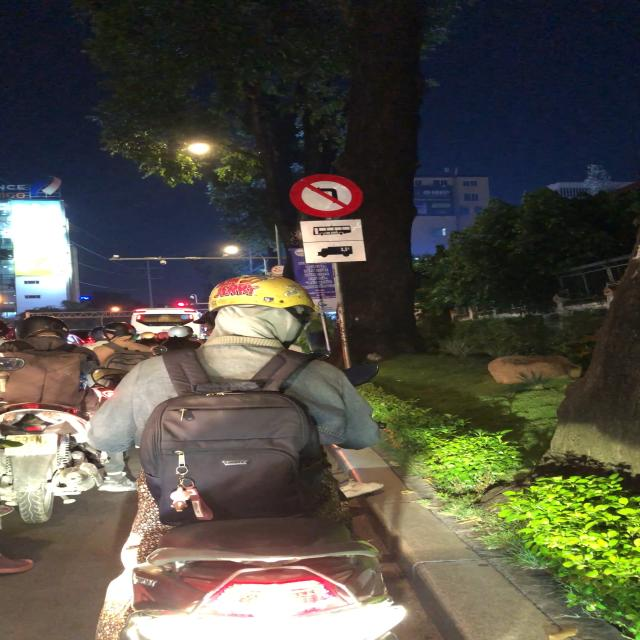Bien bao cam re trai: (286, 172, 364, 219)
